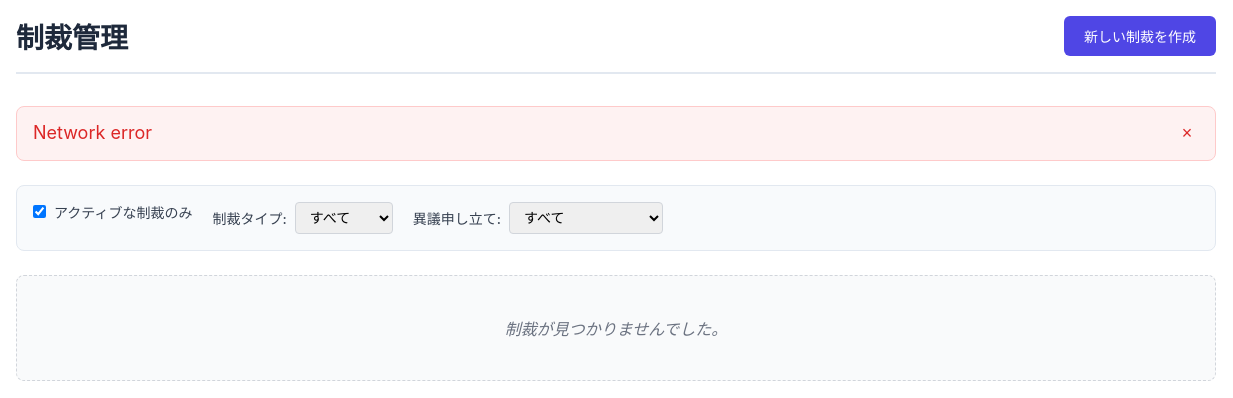
Scenario: UserSanctionManager › Error Handling › allows error dismissal
Expected: the text "Network error" is shown, [33,122,152,143]
Click the button "×".
click(1187, 133)  # box [1175,121,1199,145]
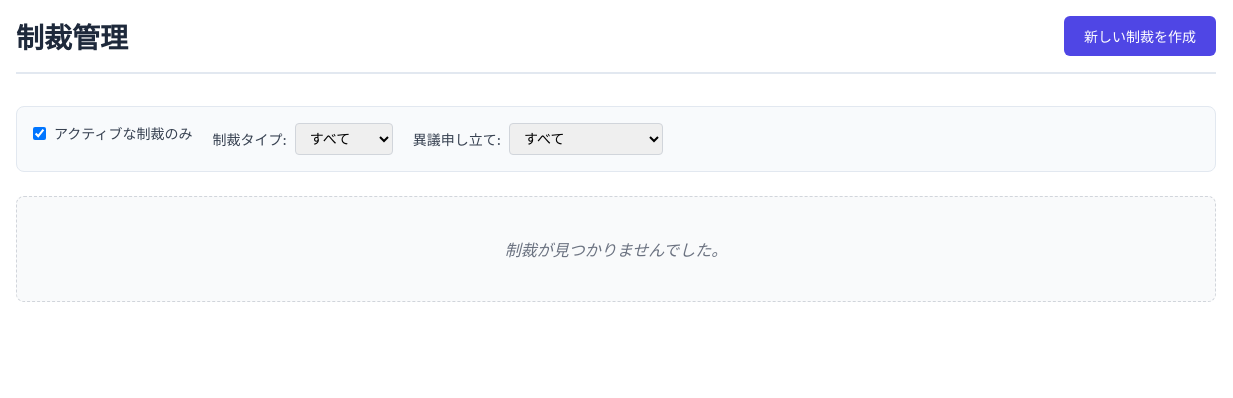
Expected: the text "Network error" is gone
